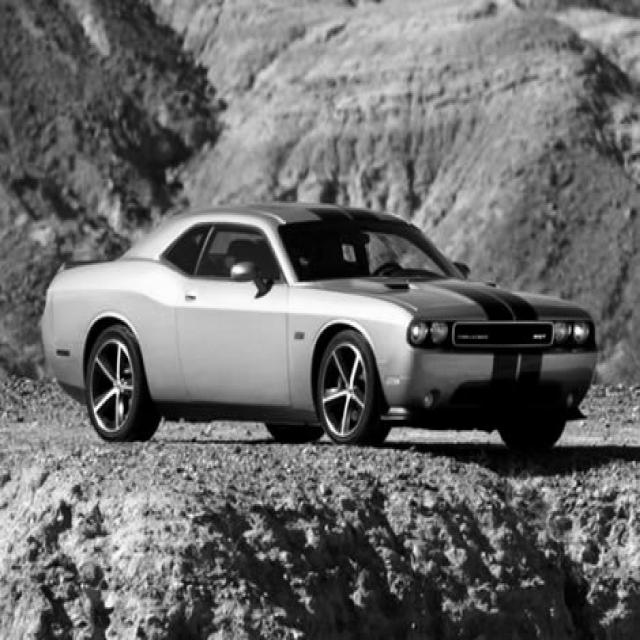car: (38, 200, 598, 449)
